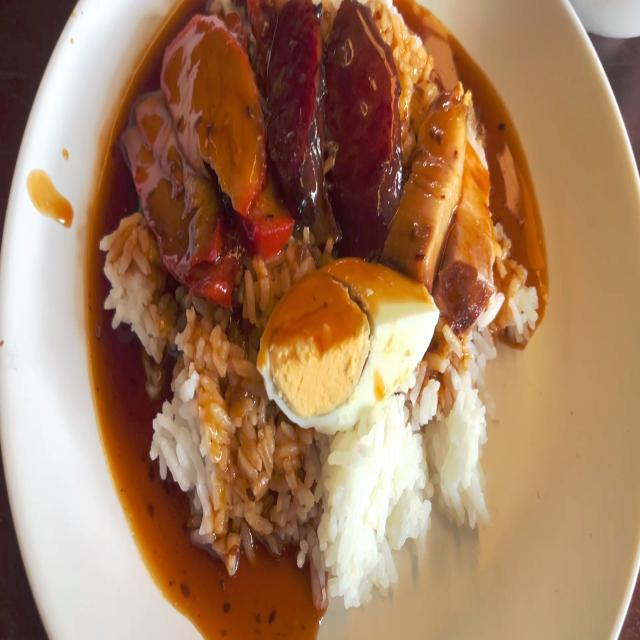boiled_egg: (260, 261, 438, 427)
chainese_sausage: (263, 0, 397, 241), (263, 0, 331, 240), (335, 0, 398, 241)
crispy_pork: (391, 78, 497, 320), (401, 85, 471, 274), (444, 136, 490, 328)
red_pork: (134, 24, 273, 286), (122, 89, 217, 296), (175, 24, 259, 212), (248, 190, 292, 263)
red_pork_and_crispy_pork: (111, 0, 538, 612)
rice: (153, 319, 267, 554), (303, 414, 428, 594), (425, 326, 499, 516), (106, 211, 170, 356)
